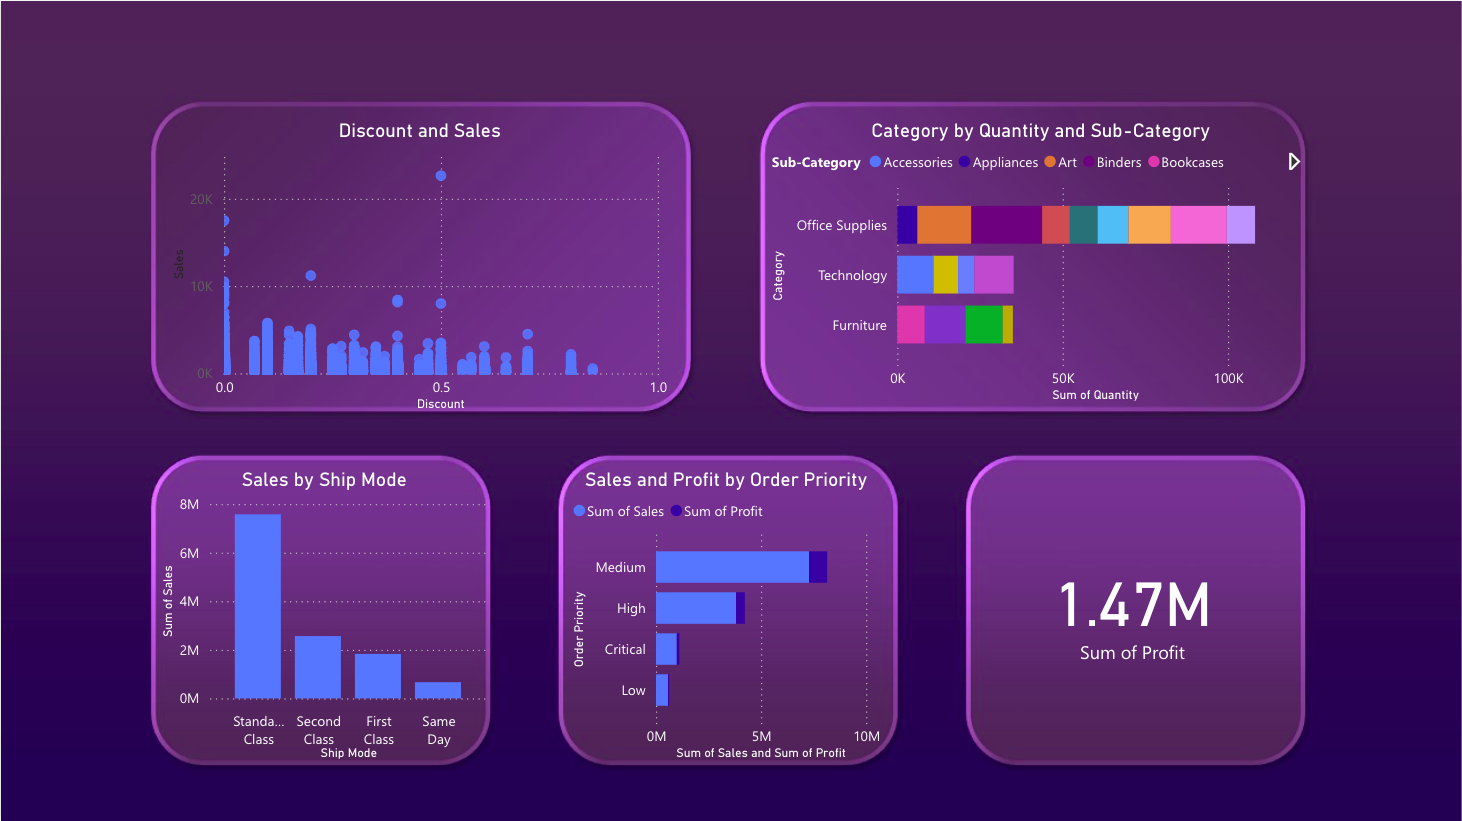

What the dashboard file says about the page in this screenshot:
{"tool":"powerbi","page":{"name":"Page 2","canvas":[1280,720],"ordinal":1},"visuals":[{"type":"scatterChart","fields":{"X":["Global_Superstore 1.Discount"],"Y":["Global_Superstore 1.Sales"]},"box":[145,106.3,442.9,257.2],"z":0},{"type":"barChart","title":"Category by Quantity and Sub-Category","fields":{"Category":["Global_Superstore 1.Category"],"Series":["Global_Superstore 1.Sub-Category"],"Y":["Sum(Global_Superstore 1.Quantity)"]},"box":[670.3,106.3,481.6,249.2],"z":1000},{"type":"columnChart","title":"Sales by Ship Mode","fields":{"Category":["Global_Superstore 1.Ship Mode"],"Y":["Sum(Global_Superstore 1.Sales)"]},"box":[136,412.1,294.9,257.2],"z":2000},{"type":"barChart","title":"Sales and Profit by Order Priority","fields":{"Category":["Global_Superstore 1.Order Priority"],"Y":["Sum(Global_Superstore 1.Sales)","Sum(Global_Superstore 1.Profit)"]},"box":[495.5,412.1,279,257.2],"z":3000},{"type":"card","fields":{"Values":["Sum(Global_Superstore 1.Profit)"]},"box":[802.4,403.2,377.3,257.2],"z":4000}]}

Visuals, with their boxes in screenshot pixels (x1, y1, x2, y2), scaled from the page's 1280x720 canvas onto the 1462x821 screenshot:
scatterChart - Global_Superstore 1.Discount x Global_Superstore 1.Sales: crop(166, 121, 671, 414)
"Category by Quantity and Sub-Category" barChart: crop(766, 121, 1316, 405)
"Sales by Ship Mode" columnChart: crop(155, 470, 492, 763)
"Sales and Profit by Order Priority" barChart: crop(566, 470, 885, 763)
card - Sum(Global_Superstore 1.Profit): crop(916, 460, 1347, 753)
